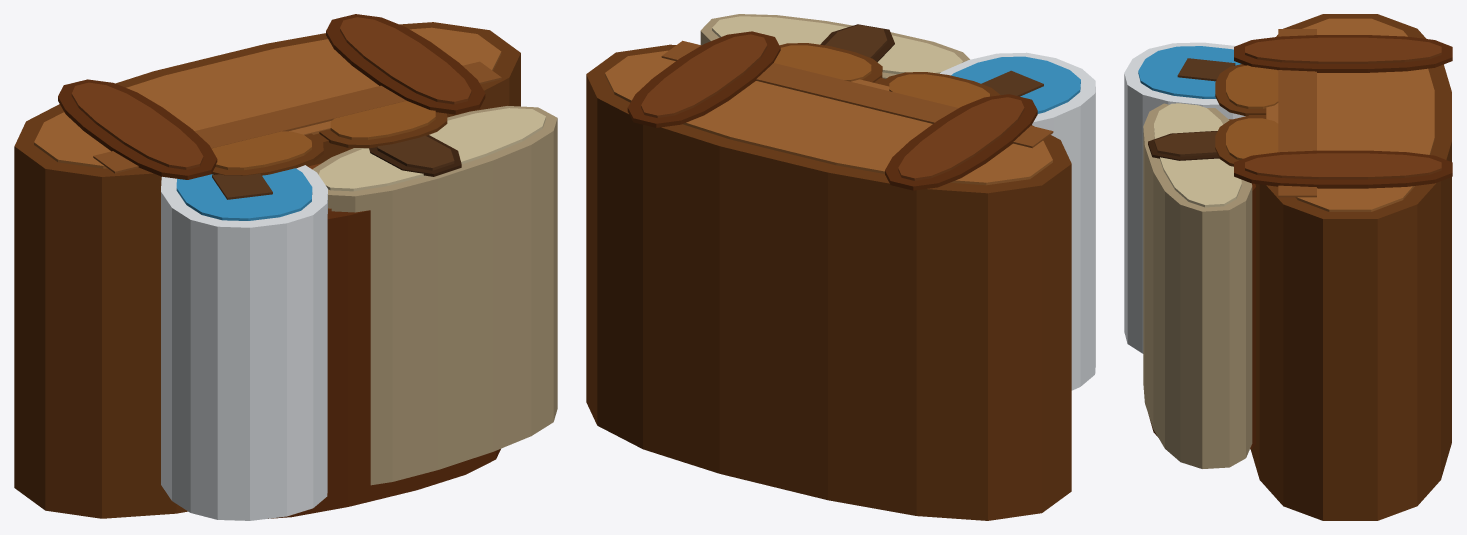
The model's file is bag_cartografo.fbx.
The picture shows the model from 3 angles, left to right: view 1: azimuth 30°, elevation 25°; view 2: azimuth 150°, elevation 25°; view 3: azimuth 270°, elevation 25°; orthographic projection. The views are drawn at different scales.
Visible parts, largest first — view 1: bag_cartografo_mochila; view 2: bag_cartografo_mochila; view 3: bag_cartografo_mochila.
Boxes of the visible parts, x1,y1,x2,y2 form: bag_cartografo_mochila: (14,14,557,520); bag_cartografo_mochila: (586,14,1095,520); bag_cartografo_mochila: (1124,14,1452,520).
Size of the model in its own units: 2.77 by 1.96 by 1.87.
Materials: 1 (1 with a texture image).
